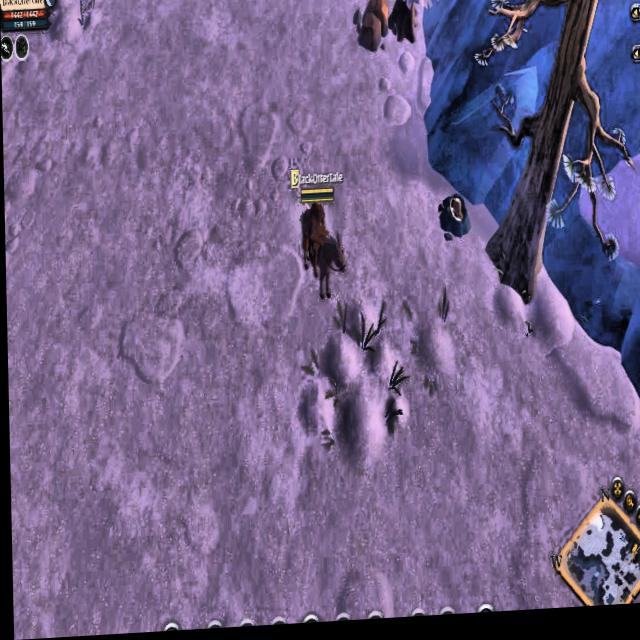limestone: (357, 0, 390, 55)
